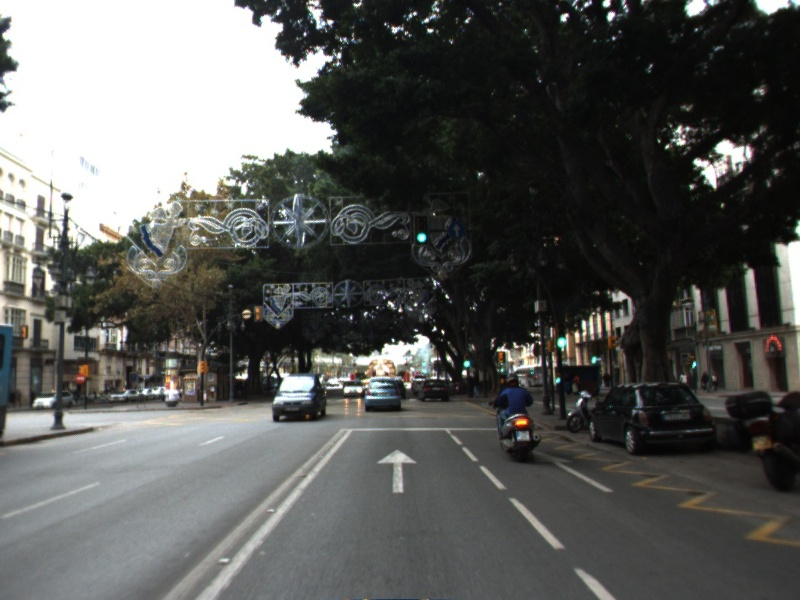STRAIGHT: (530, 448, 616, 495), (375, 447, 420, 494)
